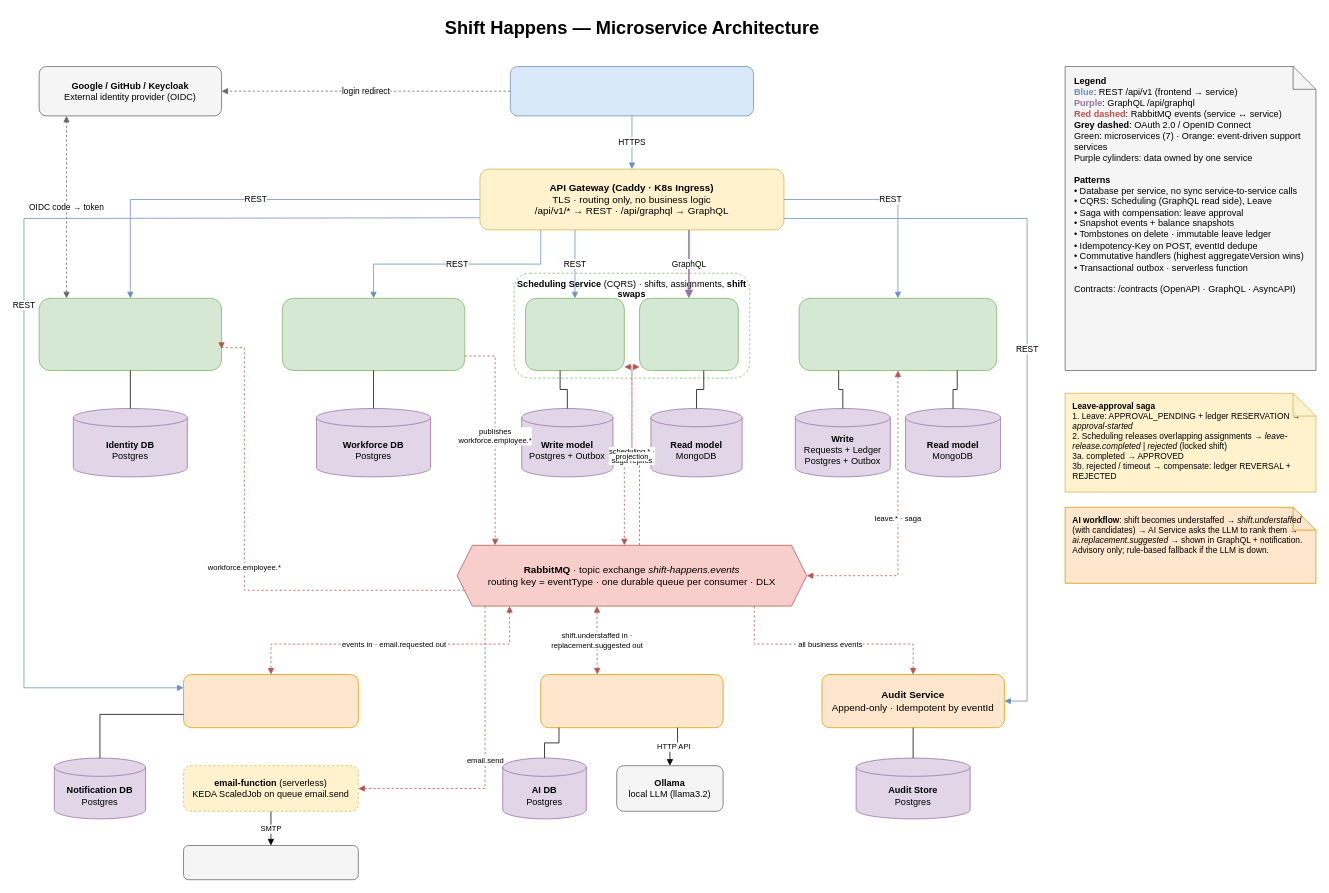
Image size: 1329x893. Some labels were removed from this diagram. Here are the shapes that lost their labels. From the top down, the centre of each, then its label:
At point (632, 91): "Frontend (React SPA) REST + GraphQL client".
At point (130, 334): "Identity Service Login · OIDC (Google/GitHub) JWT issuing (JWKS)".
At point (373, 334): "Workforce Service Employees · Contracts · Departments Job Roles · Locations".
At point (574, 334): "command REST writes Saga participant".
At point (688, 334): "query GraphQL reads".
At point (897, 334): "Leave Service Requests · Approvals · Immutable Ledger CQRS · Saga orchestrator".
At point (270, 701): "Notification Service In-app notifications".
At point (631, 701): "AI Service Replacement suggestions".
At point (270, 862): "SMTP · Mailpit locally".
